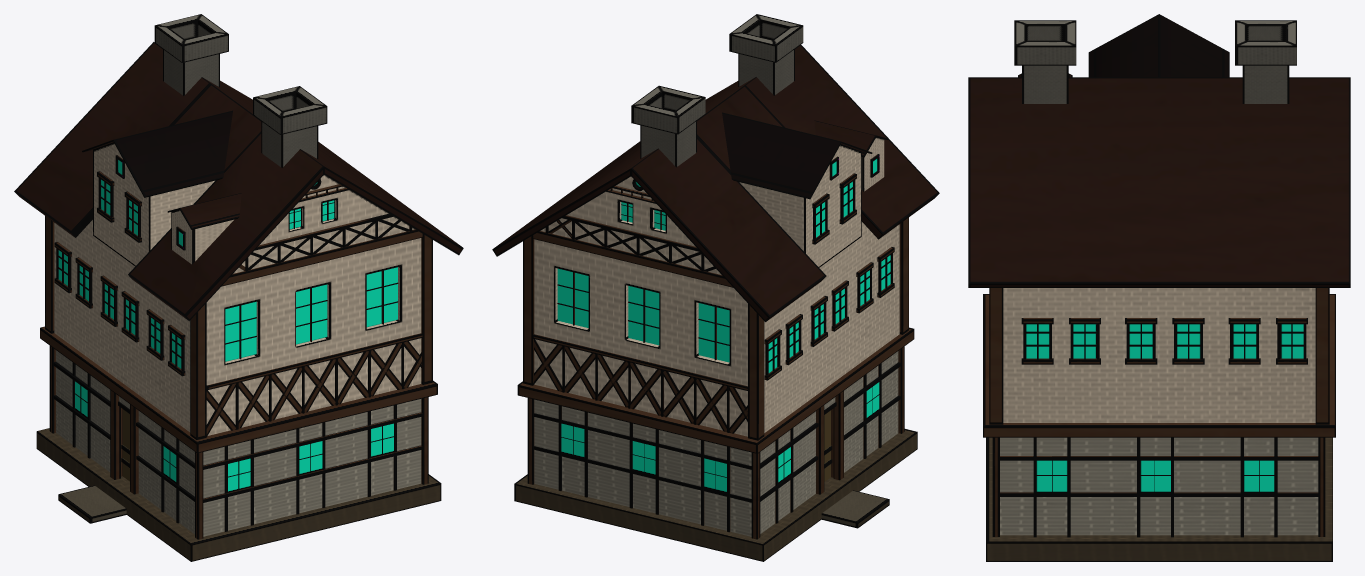
3 renders of one model, left to right at view 1: azimuth 30°, elevation 25°; view 2: azimuth 150°, elevation 25°; view 3: azimuth 270°, elevation 25°, orthographic. The views are drawn at different scales.
Visible parts, largest first — view 1: House2_3; view 2: House2_3; view 3: House2_3.
Boxes of the visible parts, <box> form: House2_3: <box>14,14,463,561</box>; House2_3: <box>492,14,939,561</box>; House2_3: <box>968,14,1350,561</box>.
Size of the model in its own units: 170 by 221 by 167.
